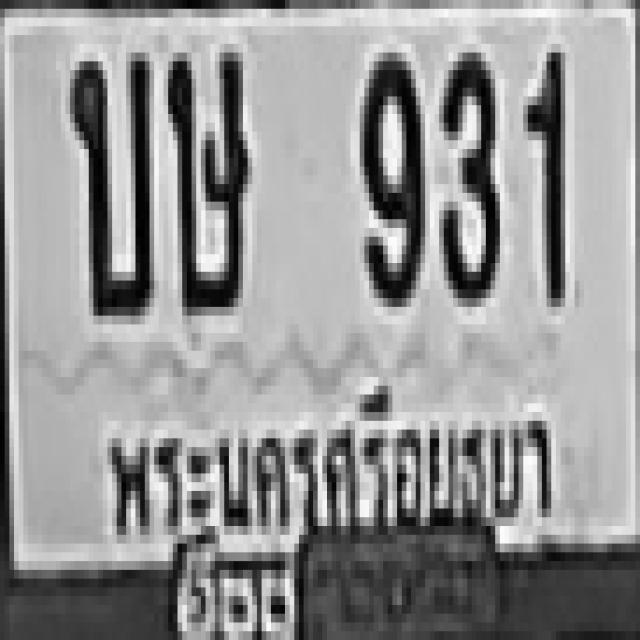1: (523, 44, 561, 298)
3: (439, 44, 495, 298)
35BorBaiMai: (66, 44, 150, 316)
48SorRueSi: (163, 44, 243, 307)
9: (360, 44, 420, 298)
Ayutthaya: (85, 356, 564, 556)
